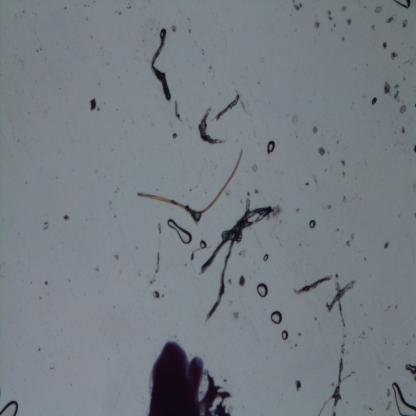Air bubble: (390, 381, 416, 415), (166, 220, 193, 244), (0, 399, 19, 416), (269, 310, 284, 324), (392, 0, 411, 10), (256, 283, 268, 297), (265, 139, 275, 154), (308, 217, 316, 231), (280, 329, 288, 341), (199, 237, 206, 249), (263, 254, 269, 262)
Background material: (403, 358, 416, 379), (172, 98, 182, 122), (88, 97, 100, 112), (392, 83, 401, 103), (382, 80, 392, 96), (237, 272, 246, 289), (272, 204, 282, 219), (151, 288, 163, 300), (346, 231, 355, 247), (324, 9, 334, 23), (316, 145, 327, 157), (292, 0, 303, 12), (294, 377, 302, 392), (386, 14, 394, 28), (250, 162, 258, 175), (399, 104, 409, 114), (381, 38, 388, 52), (402, 18, 410, 30), (390, 50, 398, 62), (232, 309, 240, 321), (42, 220, 50, 231), (370, 96, 378, 106), (62, 214, 71, 222), (375, 5, 382, 15), (113, 254, 121, 262), (341, 5, 348, 14), (384, 240, 390, 250), (346, 17, 352, 27), (240, 250, 247, 258), (312, 126, 318, 135), (314, 21, 320, 30), (342, 195, 348, 204), (171, 132, 177, 140), (340, 159, 346, 166), (413, 142, 416, 155)
Cellulose filter fibre: (196, 202, 272, 324), (332, 272, 347, 415), (148, 27, 172, 102), (317, 369, 354, 415), (198, 107, 226, 145), (292, 272, 333, 296), (328, 279, 354, 313), (150, 223, 164, 286), (214, 93, 240, 121)
Microfibre: (136, 146, 244, 216)
Pen: (145, 338, 233, 415)
